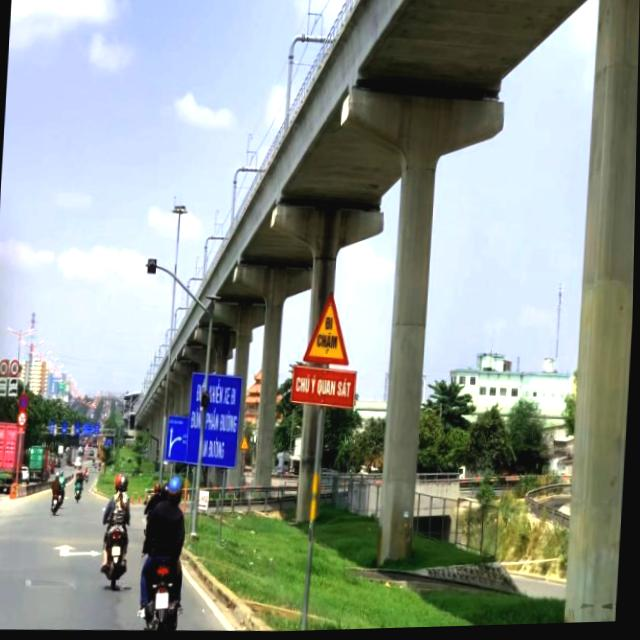Cam dung xe va do xe: (19, 392, 31, 410)
Di cham: (301, 289, 357, 373)
Toc do toi da cho phep: (0, 359, 11, 377), (11, 358, 21, 376)
